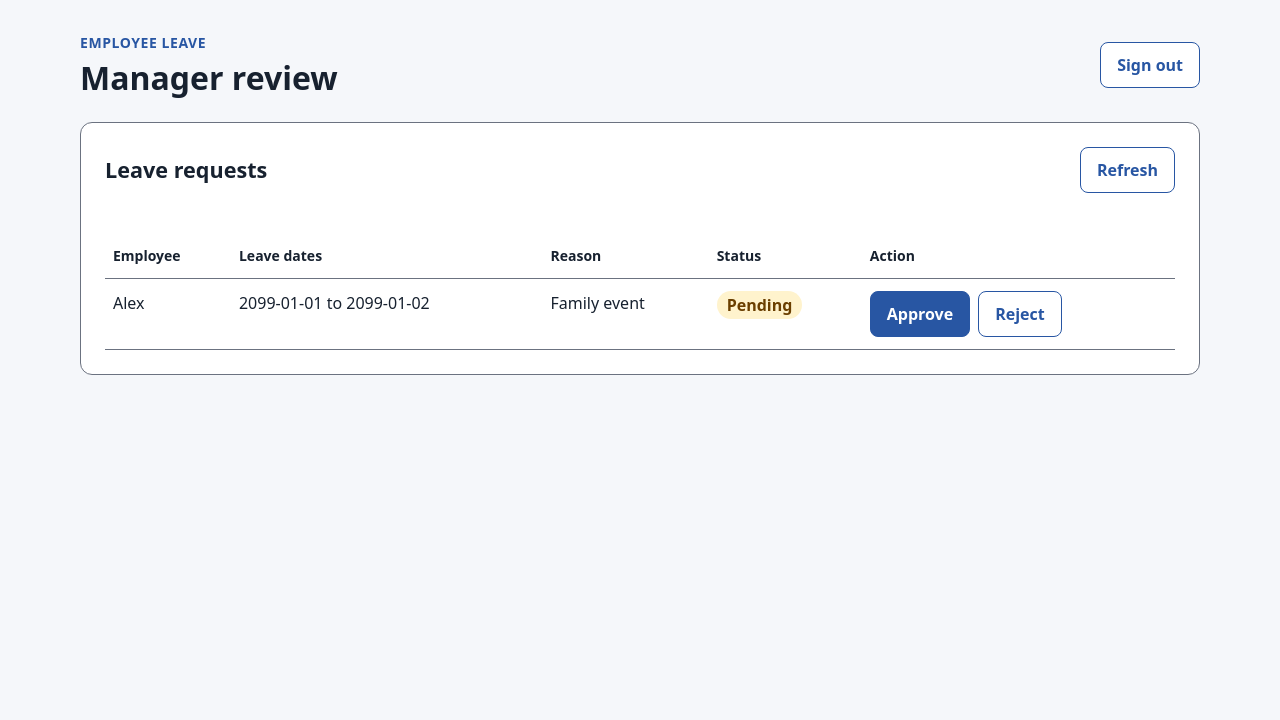
Test case: ManagerDashboard decisions › closes the confirmation without submitting on cancel
The image size is (1280, 720).
Click the button "Reject" at (1020, 314), box [978, 291, 1062, 337]
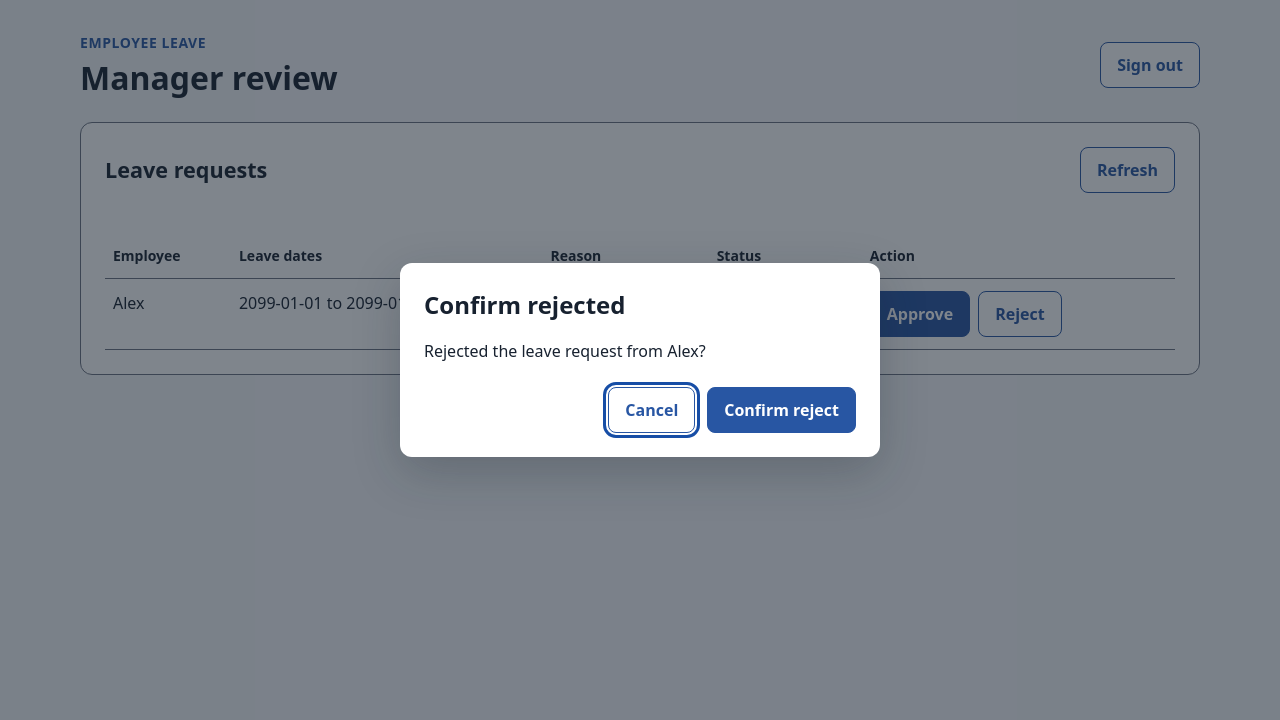
Click the button "Cancel" at (652, 410), box [608, 387, 695, 433]
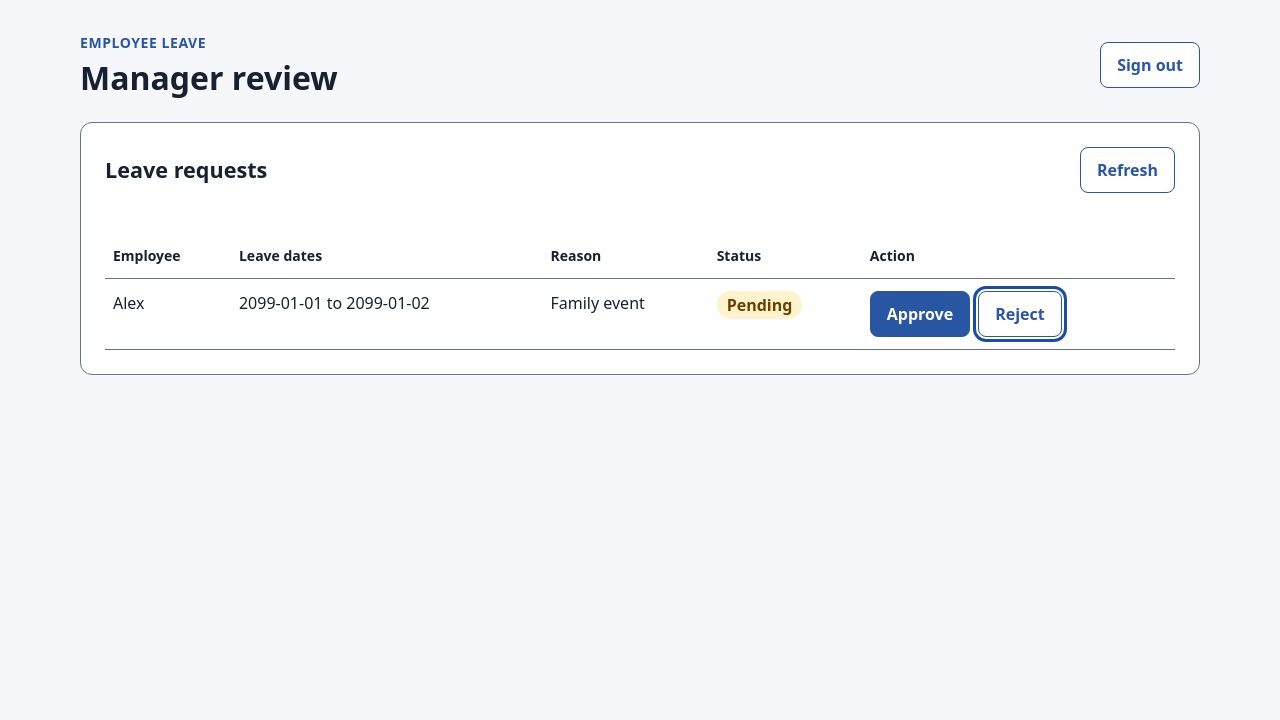
Expected: the dialog is gone
